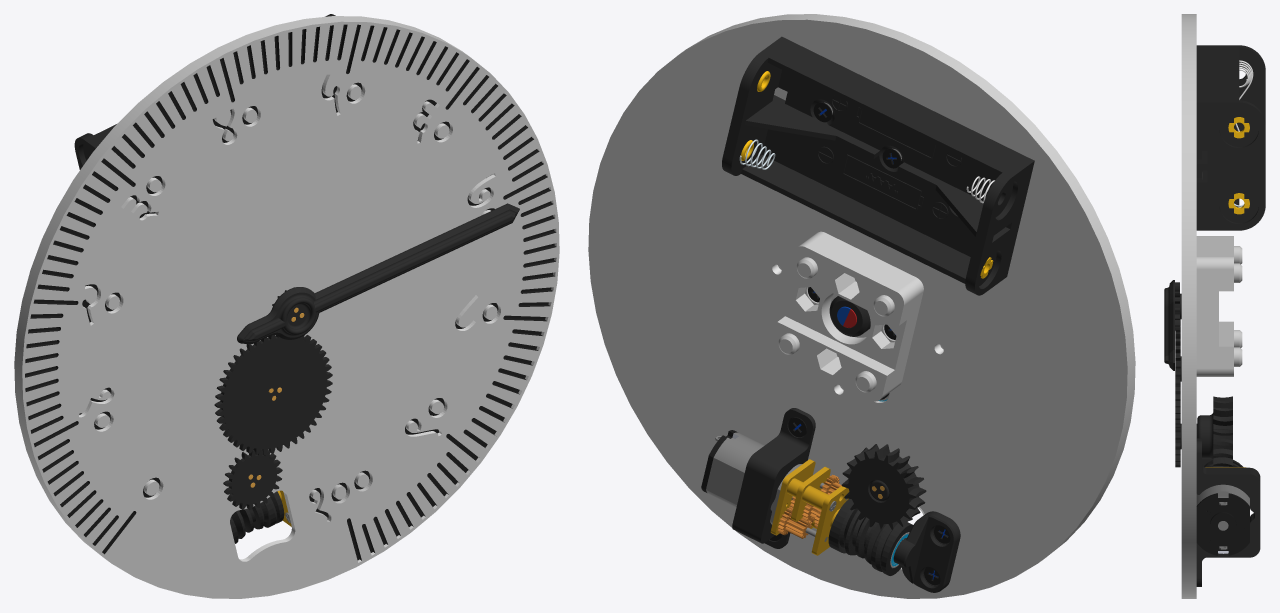
The model's file is Face_with_tick_gear_system.glb.
3 renders of one model, left to right at view 1: azimuth 30°, elevation 25°; view 2: azimuth 150°, elevation 25°; view 3: azimuth 270°, elevation 25°, orthographic. The views are drawn at different scales.
Parts seen in each view (by area): view 1: Face, 45_1_gear, ticktock, 21_1_gear, Gobloid_worm, 2xaaa_battery_holder_1_2_3_1; view 2: Face, 2xaaa_battery_holder_1_2_3_1, AS5600_chinaModuleHolder, MotorHolder_back, Gobloid_wheel, worm_gear_shaft, Gobloid_worm, MicroMotorN20.002, MicroMotorN20Pieza3, MicroMotorN20Pieza1.002, magnet_holder, MicroMotorN20Pieza2.001; view 3: 2xaaa_battery_holder_1_2_3_1, Face, AS5600_chinaModuleHolder, MicroMotorN20, MotorHolder_back, Gobloid_wheel, ticktock, 45_1_gear, MicroMotorN20.002, 16_1_gear, 2xaaa_battery_holder_1_2_3_7, 2xaaa_battery_holder_1_2_3_6 (+2 smaller).
Part boxes in pixels (bbox=[...]): Face: bbox=[14, 16, 559, 598]; 45_1_gear: bbox=[214, 335, 332, 454]; ticktock: bbox=[237, 203, 519, 344]; 21_1_gear: bbox=[223, 449, 282, 510]; Gobloid_worm: bbox=[230, 491, 284, 543]; 2xaaa_battery_holder_1_2_3_1: bbox=[74, 14, 335, 169]; Face: bbox=[588, 14, 1135, 598]; 2xaaa_battery_holder_1_2_3_1: bbox=[722, 36, 1034, 295]; AS5600_chinaModuleHolder: bbox=[772, 231, 923, 401]; MotorHolder_back: bbox=[732, 408, 815, 548]; Gobloid_wheel: bbox=[841, 444, 926, 530]; worm_gear_shaft: bbox=[893, 511, 960, 592]; Gobloid_worm: bbox=[828, 498, 912, 575]; MicroMotorN20.002: bbox=[706, 432, 802, 524]; MicroMotorN20Pieza3: bbox=[811, 486, 849, 555]; MicroMotorN20Pieza1.002: bbox=[770, 459, 815, 535]; magnet_holder: bbox=[829, 296, 870, 336]; MicroMotorN20Pieza2.001: bbox=[791, 466, 830, 528]; 2xaaa_battery_holder_1_2_3_1: bbox=[1196, 45, 1265, 230]; Face: bbox=[1181, 14, 1196, 598]; AS5600_chinaModuleHolder: bbox=[1196, 236, 1242, 376]; MicroMotorN20: bbox=[1196, 493, 1249, 555]; MotorHolder_back: bbox=[1196, 438, 1260, 586]; Gobloid_wheel: bbox=[1196, 396, 1232, 467]; ticktock: bbox=[1164, 280, 1174, 370]; 45_1_gear: bbox=[1175, 319, 1181, 431]; MicroMotorN20.002: bbox=[1196, 484, 1249, 553]; 16_1_gear: bbox=[1175, 282, 1181, 330]; 2xaaa_battery_holder_1_2_3_7: bbox=[1228, 193, 1249, 214]; 2xaaa_battery_holder_1_2_3_6: bbox=[1228, 117, 1249, 138].
Size of the model in its own units: 0.11 by 0.11 by 0.0191.
